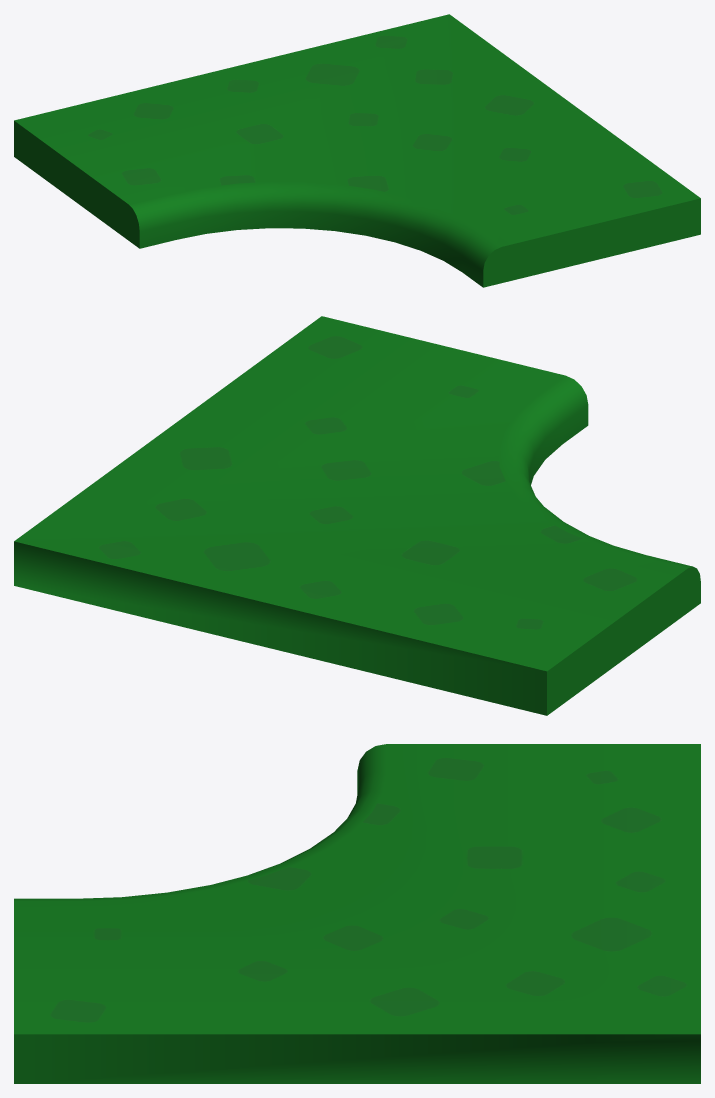
File: GF_ICorner_2_3.obj
3 views of the same model, one above another, from view 1: azimuth 30°, elevation 25°; view 2: azimuth 150°, elevation 25°; view 3: azimuth 270°, elevation 25° (orthographic). The views are drawn at different scales.
Visible parts, largest first — view 1: GF_ICorner_2_3; view 2: GF_ICorner_2_3; view 3: GF_ICorner_2_3.
Boxes of the visible parts, <box> form: GF_ICorner_2_3: <box>14,14,700,287</box>; GF_ICorner_2_3: <box>14,316,700,715</box>; GF_ICorner_2_3: <box>14,744,700,1083</box>.
Bounding box in the file's own units: 4 × 0.3187 × 4.
